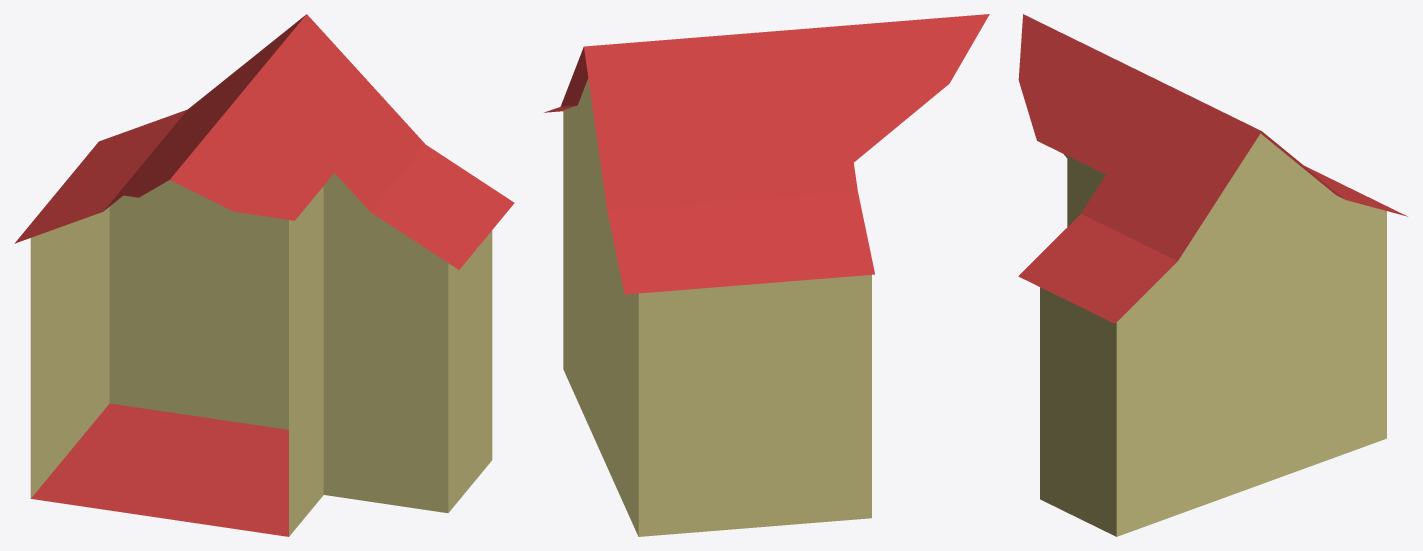
3 views of the same model, side by side, from view 1: azimuth 30°, elevation 25°; view 2: azimuth 150°, elevation 25°; view 3: azimuth 270°, elevation 25° (orthographic). The views are drawn at different scales.
Bounding box in the file's own units: 13.74 × 12.66 × 12.92.
